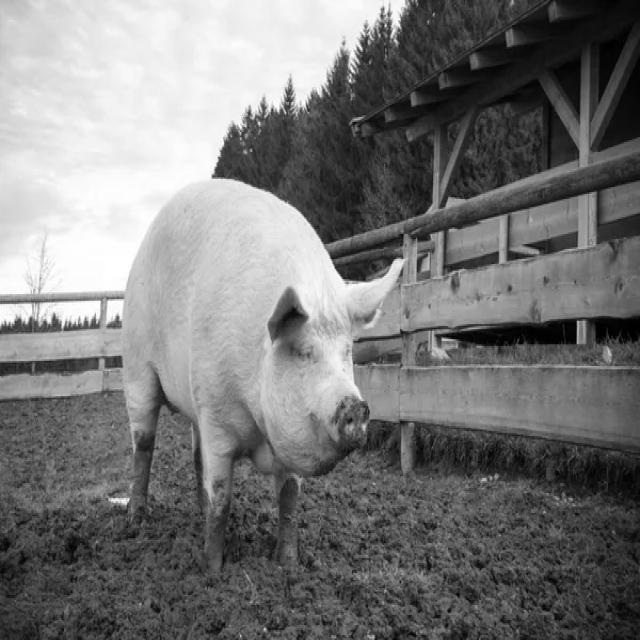Animal: (123, 179, 403, 571)
